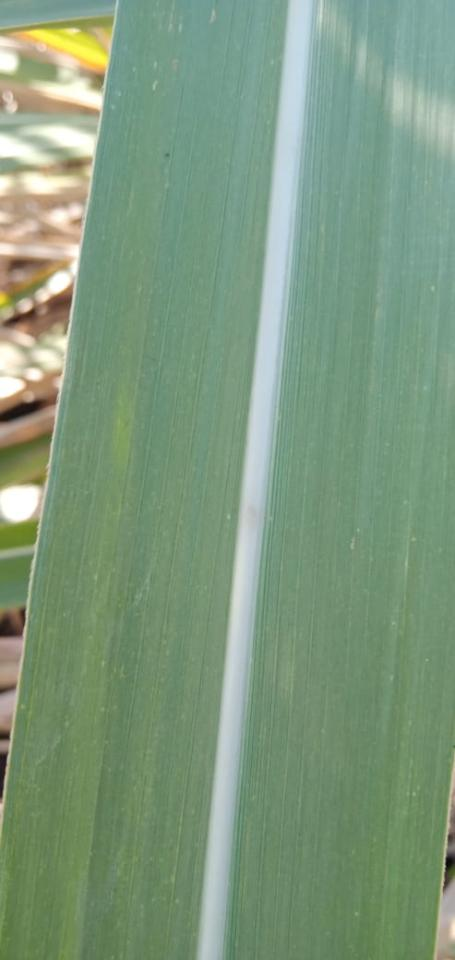Healthy: (1, 0, 454, 959)
